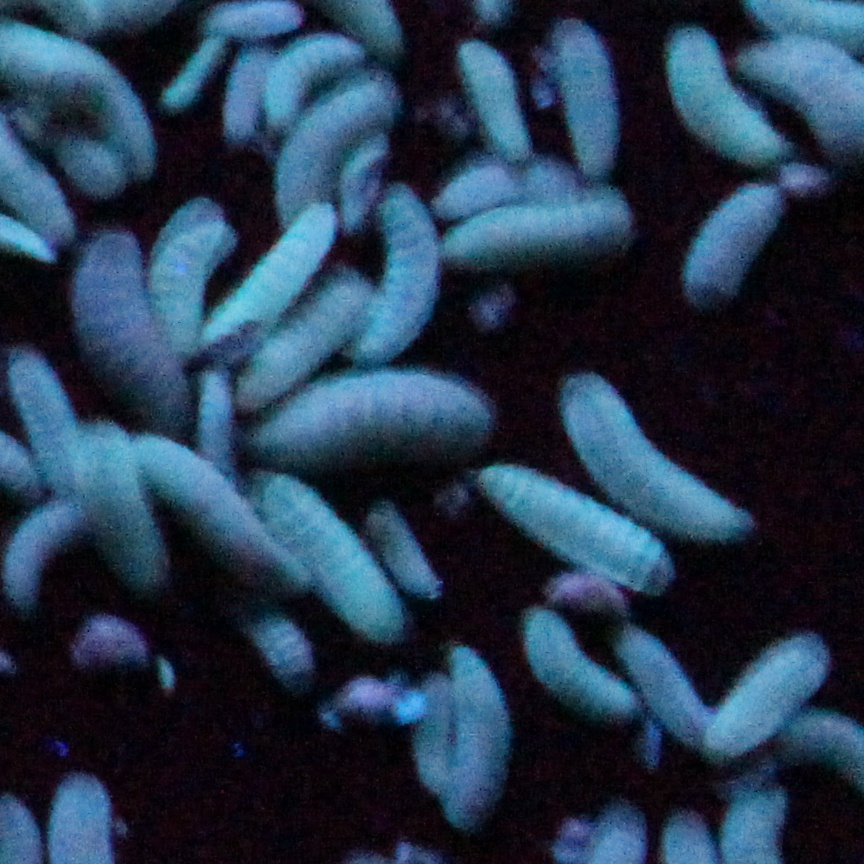larve: (546, 363, 768, 549), (233, 455, 422, 648), (56, 223, 192, 425), (467, 453, 678, 582), (200, 191, 343, 375), (258, 362, 493, 459), (655, 18, 791, 169), (700, 627, 847, 766), (70, 413, 172, 599), (676, 162, 788, 322), (506, 602, 643, 725), (540, 14, 629, 182), (362, 186, 442, 362), (441, 645, 510, 842), (437, 194, 642, 260), (452, 34, 538, 167)
